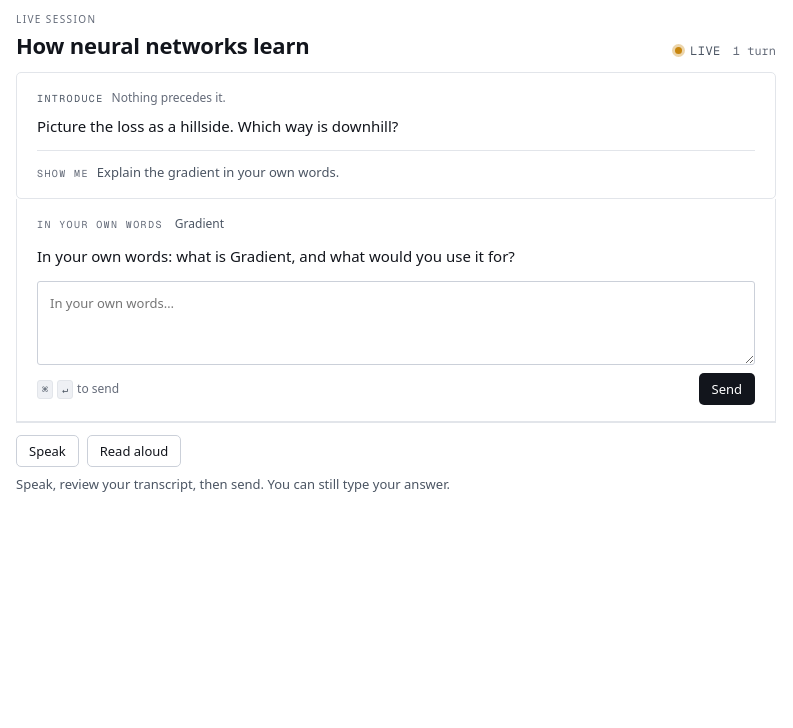
Test case: SessionView — the plainest surface a session can have › sends an answer and shows the verdict on it
Type "It points downhill." into the text box named "your answer" at (396, 323), box [37,281,755,365]
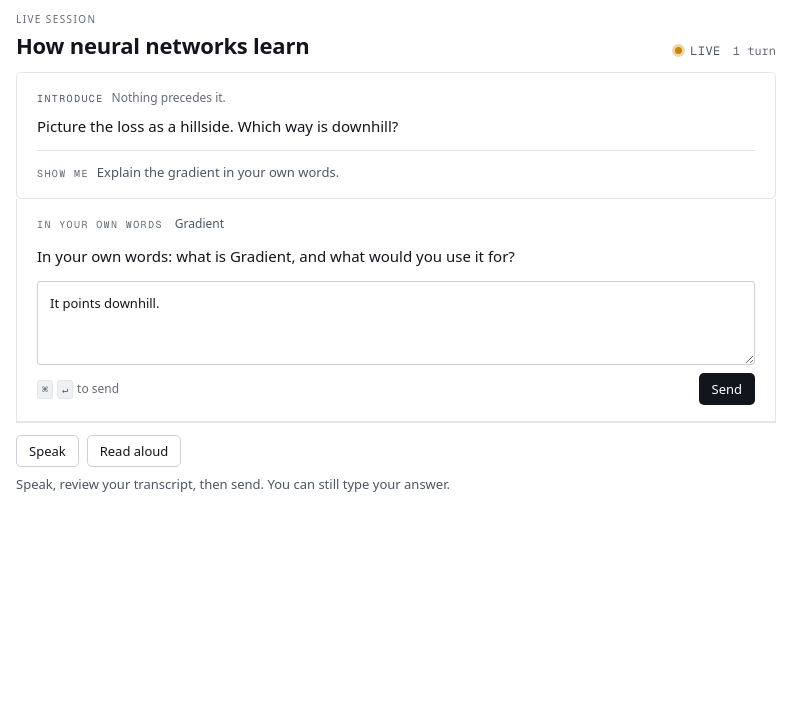
Click the button "Send" at (727, 389), box [698,373,755,405]
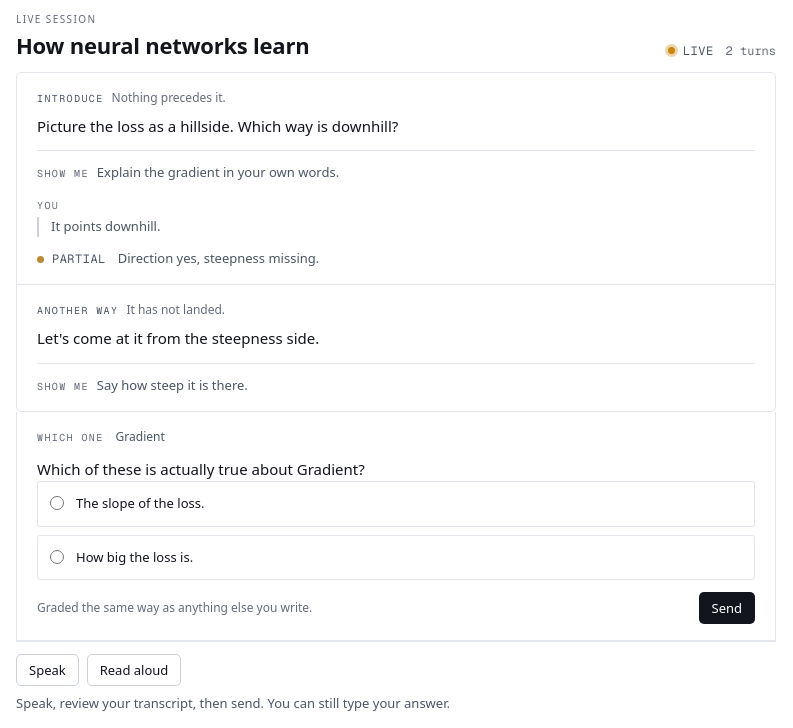
Now the text "PARTIAL" is shown, box [52,250,106,268]
Now the text "It points downhill." is shown, box [37,217,755,237]
Now the text "Direction yes, steepness missing." is shown, box [118,249,319,268]
